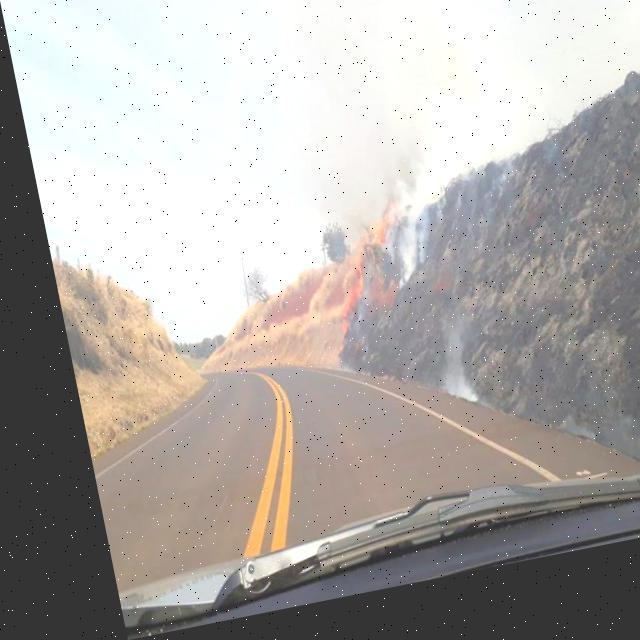Fire: (306, 228, 400, 340)
